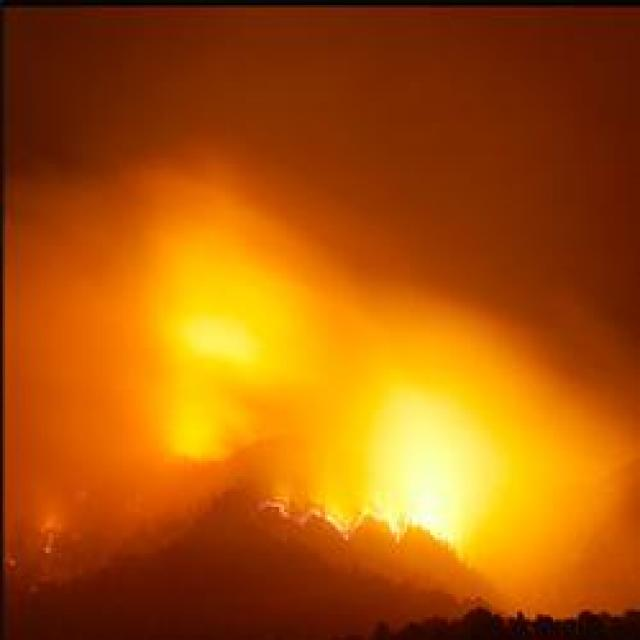fire: (136, 324, 570, 550)
